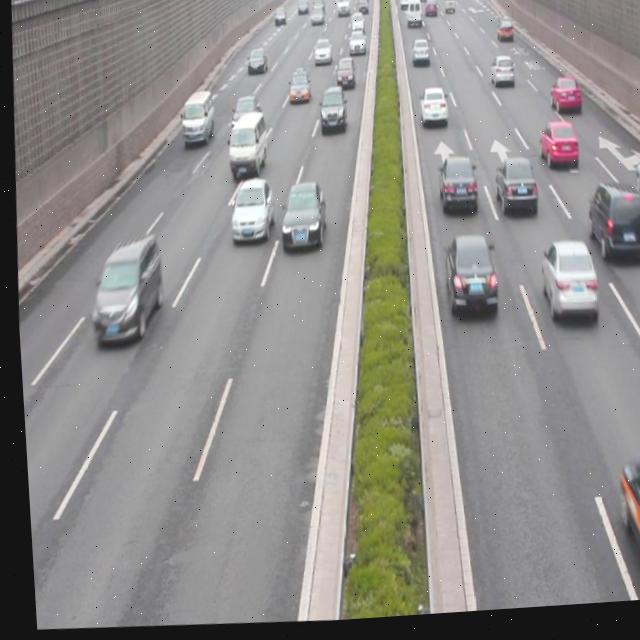car: (83, 234, 161, 347), (533, 244, 595, 332), (581, 188, 640, 275), (437, 239, 495, 327), (608, 461, 640, 595), (276, 184, 325, 255), (226, 180, 273, 248), (488, 161, 535, 227), (432, 161, 475, 219), (534, 125, 577, 177), (227, 97, 261, 143), (315, 89, 344, 138), (545, 80, 578, 121), (417, 91, 446, 136), (486, 60, 513, 95), (285, 72, 310, 108), (629, 156, 640, 216)
truck: (222, 113, 265, 178), (177, 91, 215, 147)
